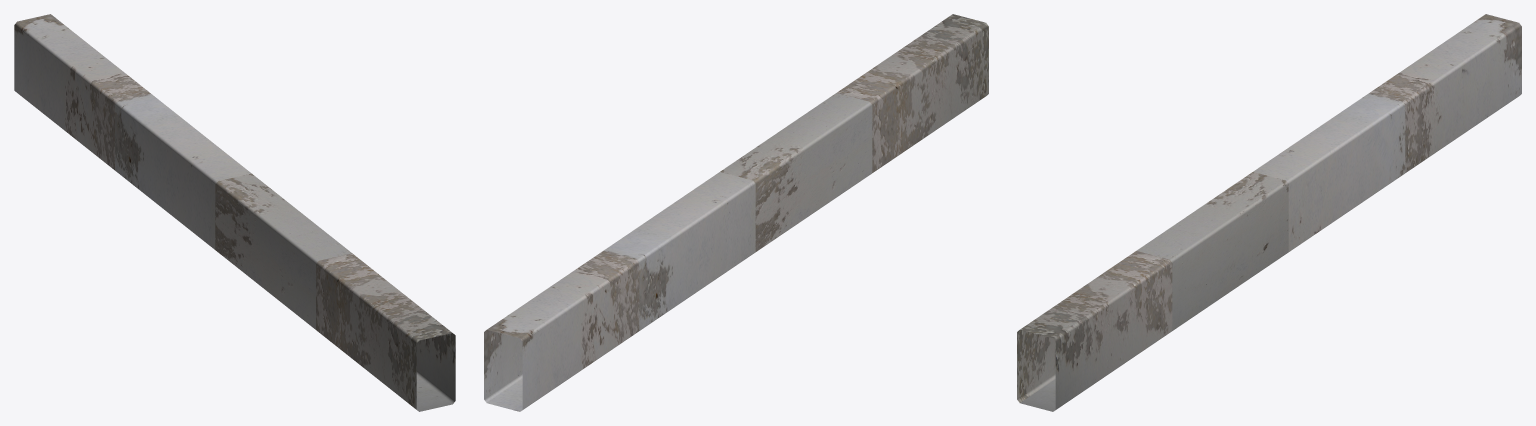
Rendered from fence_low.fbx.
The picture shows the model from 3 angles, left to right: view 1: azimuth 30°, elevation 25°; view 2: azimuth 150°, elevation 25°; view 3: azimuth 330°, elevation 25°; orthographic projection. The views are drawn at different scales.
Visible parts, largest first — view 1: 7.008; view 2: 7.008; view 3: 7.008.
Part boxes in pixels (box(x1,y1,x2,y2)): 7.008: box(14, 14, 455, 411); 7.008: box(484, 14, 988, 411); 7.008: box(1017, 14, 1521, 411).
Size of the model in its own units: 82.26 by 88.18 by 959.
